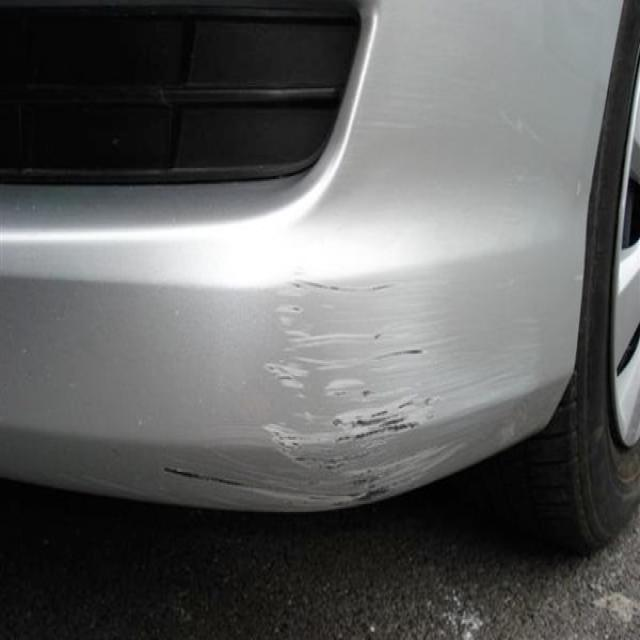scratch: (79, 272, 554, 514)
